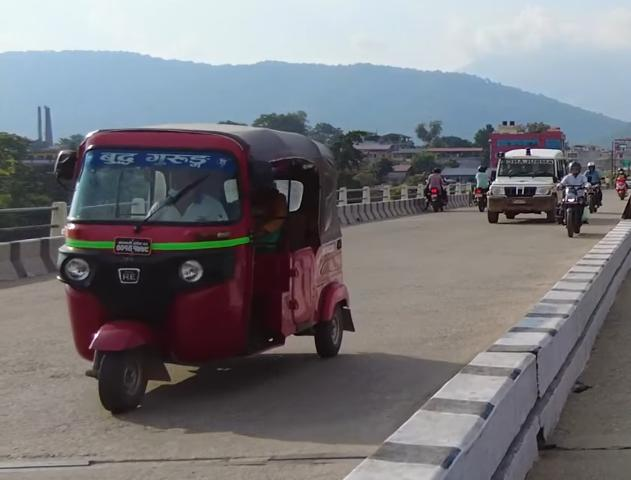ambulance: (484, 145, 568, 224)
auto_rickshaw: (46, 125, 372, 421)
bike: (554, 183, 589, 238), (419, 179, 452, 214), (475, 178, 493, 214)
scooter: (616, 174, 630, 201)
